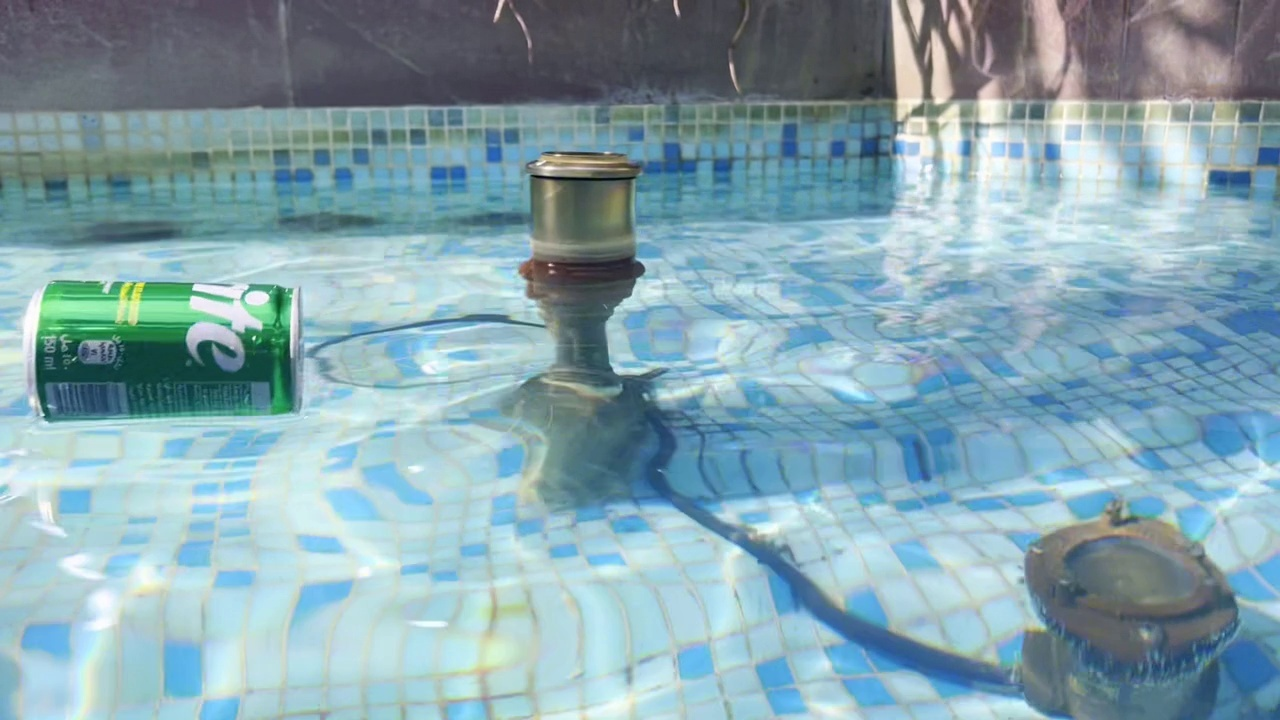debris: (8, 260, 311, 431)
